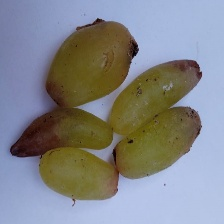grapes: (44, 36, 195, 213)
